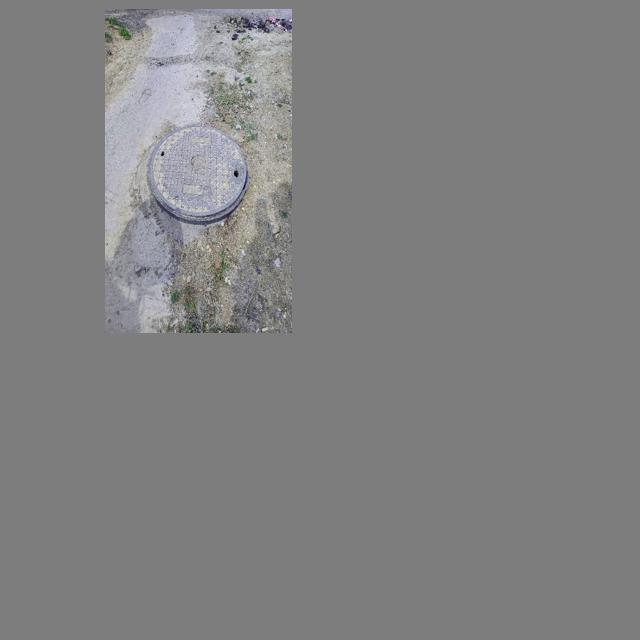good: (148, 124, 249, 224)
